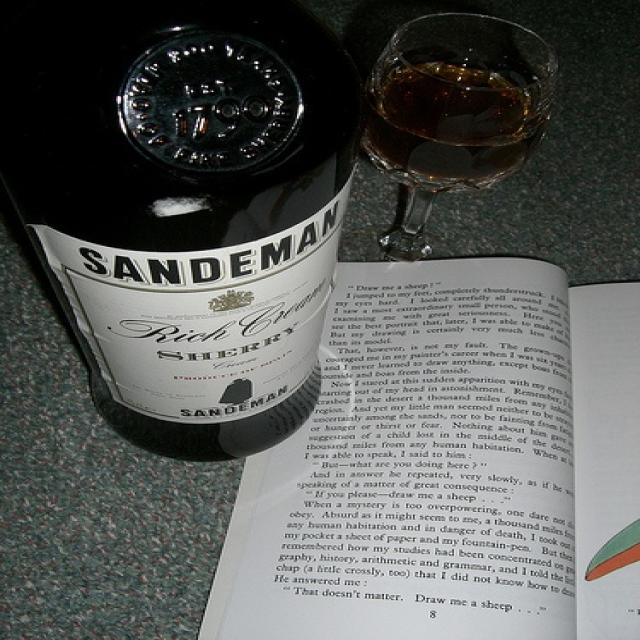bottle: (1, 1, 370, 463)
